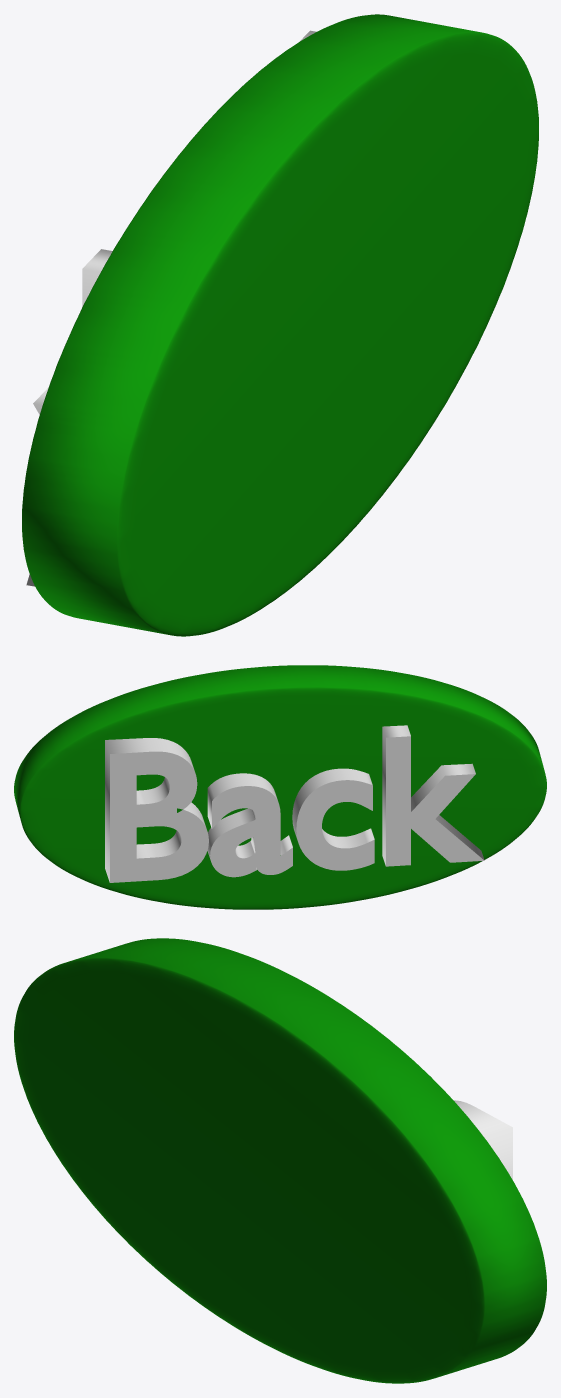
File: back.glb
3 views of the same model, one above another, from view 1: azimuth 30°, elevation 25°; view 2: azimuth 150°, elevation 25°; view 3: azimuth 270°, elevation 25° (orthographic). The views are drawn at different scales.
Parts seen in each view (by area): view 1: Cylinder, Text.001; view 2: Cylinder, Text.001; view 3: Cylinder, Text.001.
Part boxes in pixels (x1,y1,x2,y2): Cylinder: (22,14,538,636); Text.001: (26,30,316,586); Cylinder: (14,665,546,909); Text.001: (105,725,484,882); Cylinder: (14,938,546,1383); Text.001: (454,1100,512,1179).
Size of the model in its own units: 1.95 by 1.04 by 1.53.
